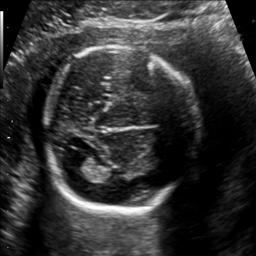normal: (45, 42, 204, 216)
